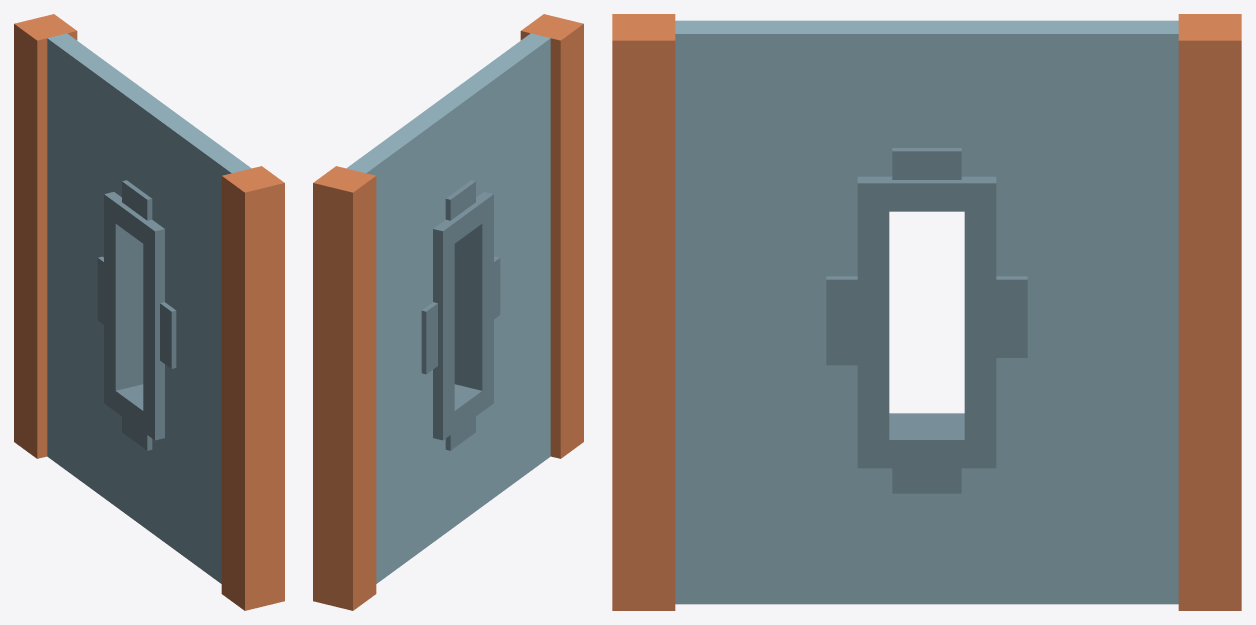
The model's file is wallWindowStone.obj.
3 views of the same model, side by side, from view 1: azimuth 30°, elevation 25°; view 2: azimuth 150°, elevation 25°; view 3: azimuth 270°, elevation 25° (orthographic). The views are drawn at different scales.
Visible parts, largest first — view 1: wallWindowStone; view 2: wallWindowStone; view 3: wallWindowStone.
Boxes of the visible parts, x1,y1,x2,y2 form: wallWindowStone: [14, 14, 284, 610]; wallWindowStone: [313, 14, 583, 610]; wallWindowStone: [612, 14, 1241, 610].
Size of the model in its own units: 0.1 by 1 by 1.
